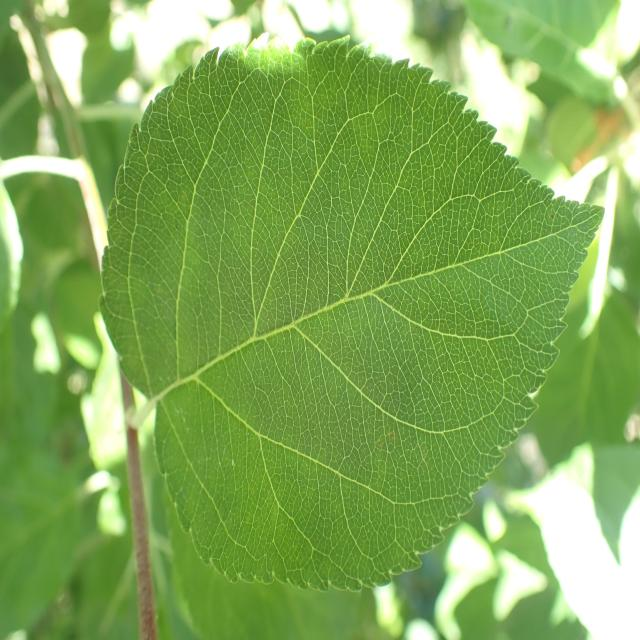healthy: (101, 32, 604, 592)
